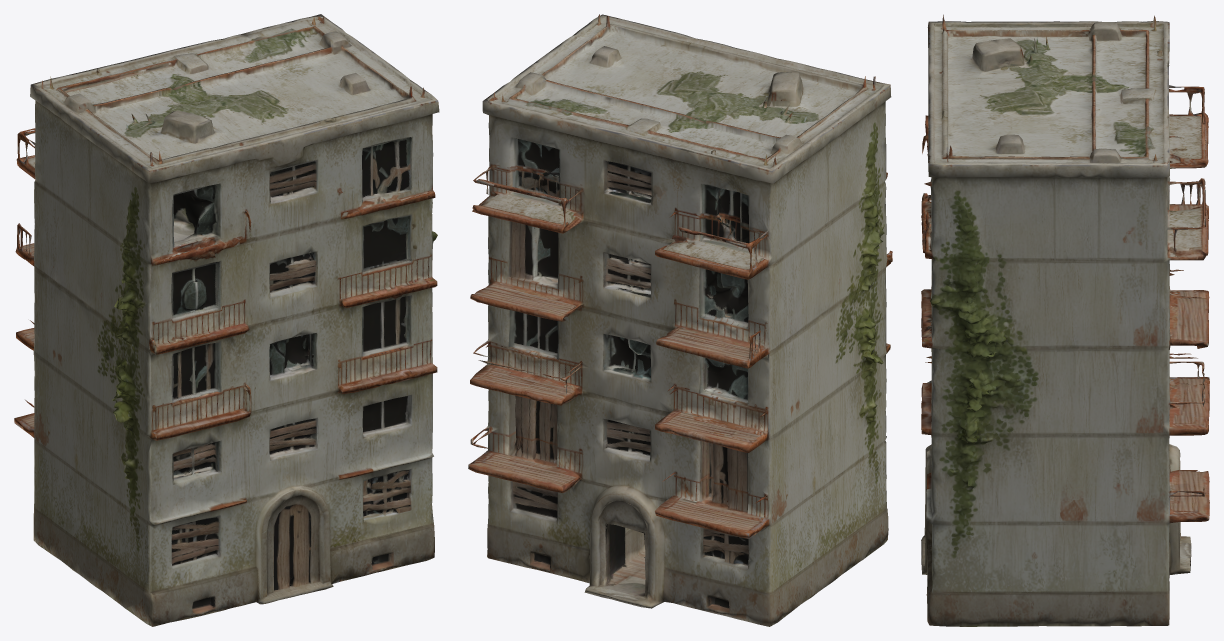
The model's file is City_Apartment.fbx.
3 renders of one model, left to right at view 1: azimuth 30°, elevation 25°; view 2: azimuth 150°, elevation 25°; view 3: azimuth 270°, elevation 25°, orthographic.
Visible parts, largest first — view 1: City_Apartment; view 2: City_Apartment; view 3: City_Apartment.
Boxes of the visible parts, x1,y1,x2,y2 form: City_Apartment: (14,14,439,626); City_Apartment: (468,14,892,626); City_Apartment: (921,14,1209,626).
Size of the model in its own units: 11.06 by 16 by 8.76.
Materials: 1 (1 with a texture image).
